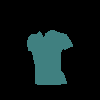polo: (26, 29, 73, 85)
